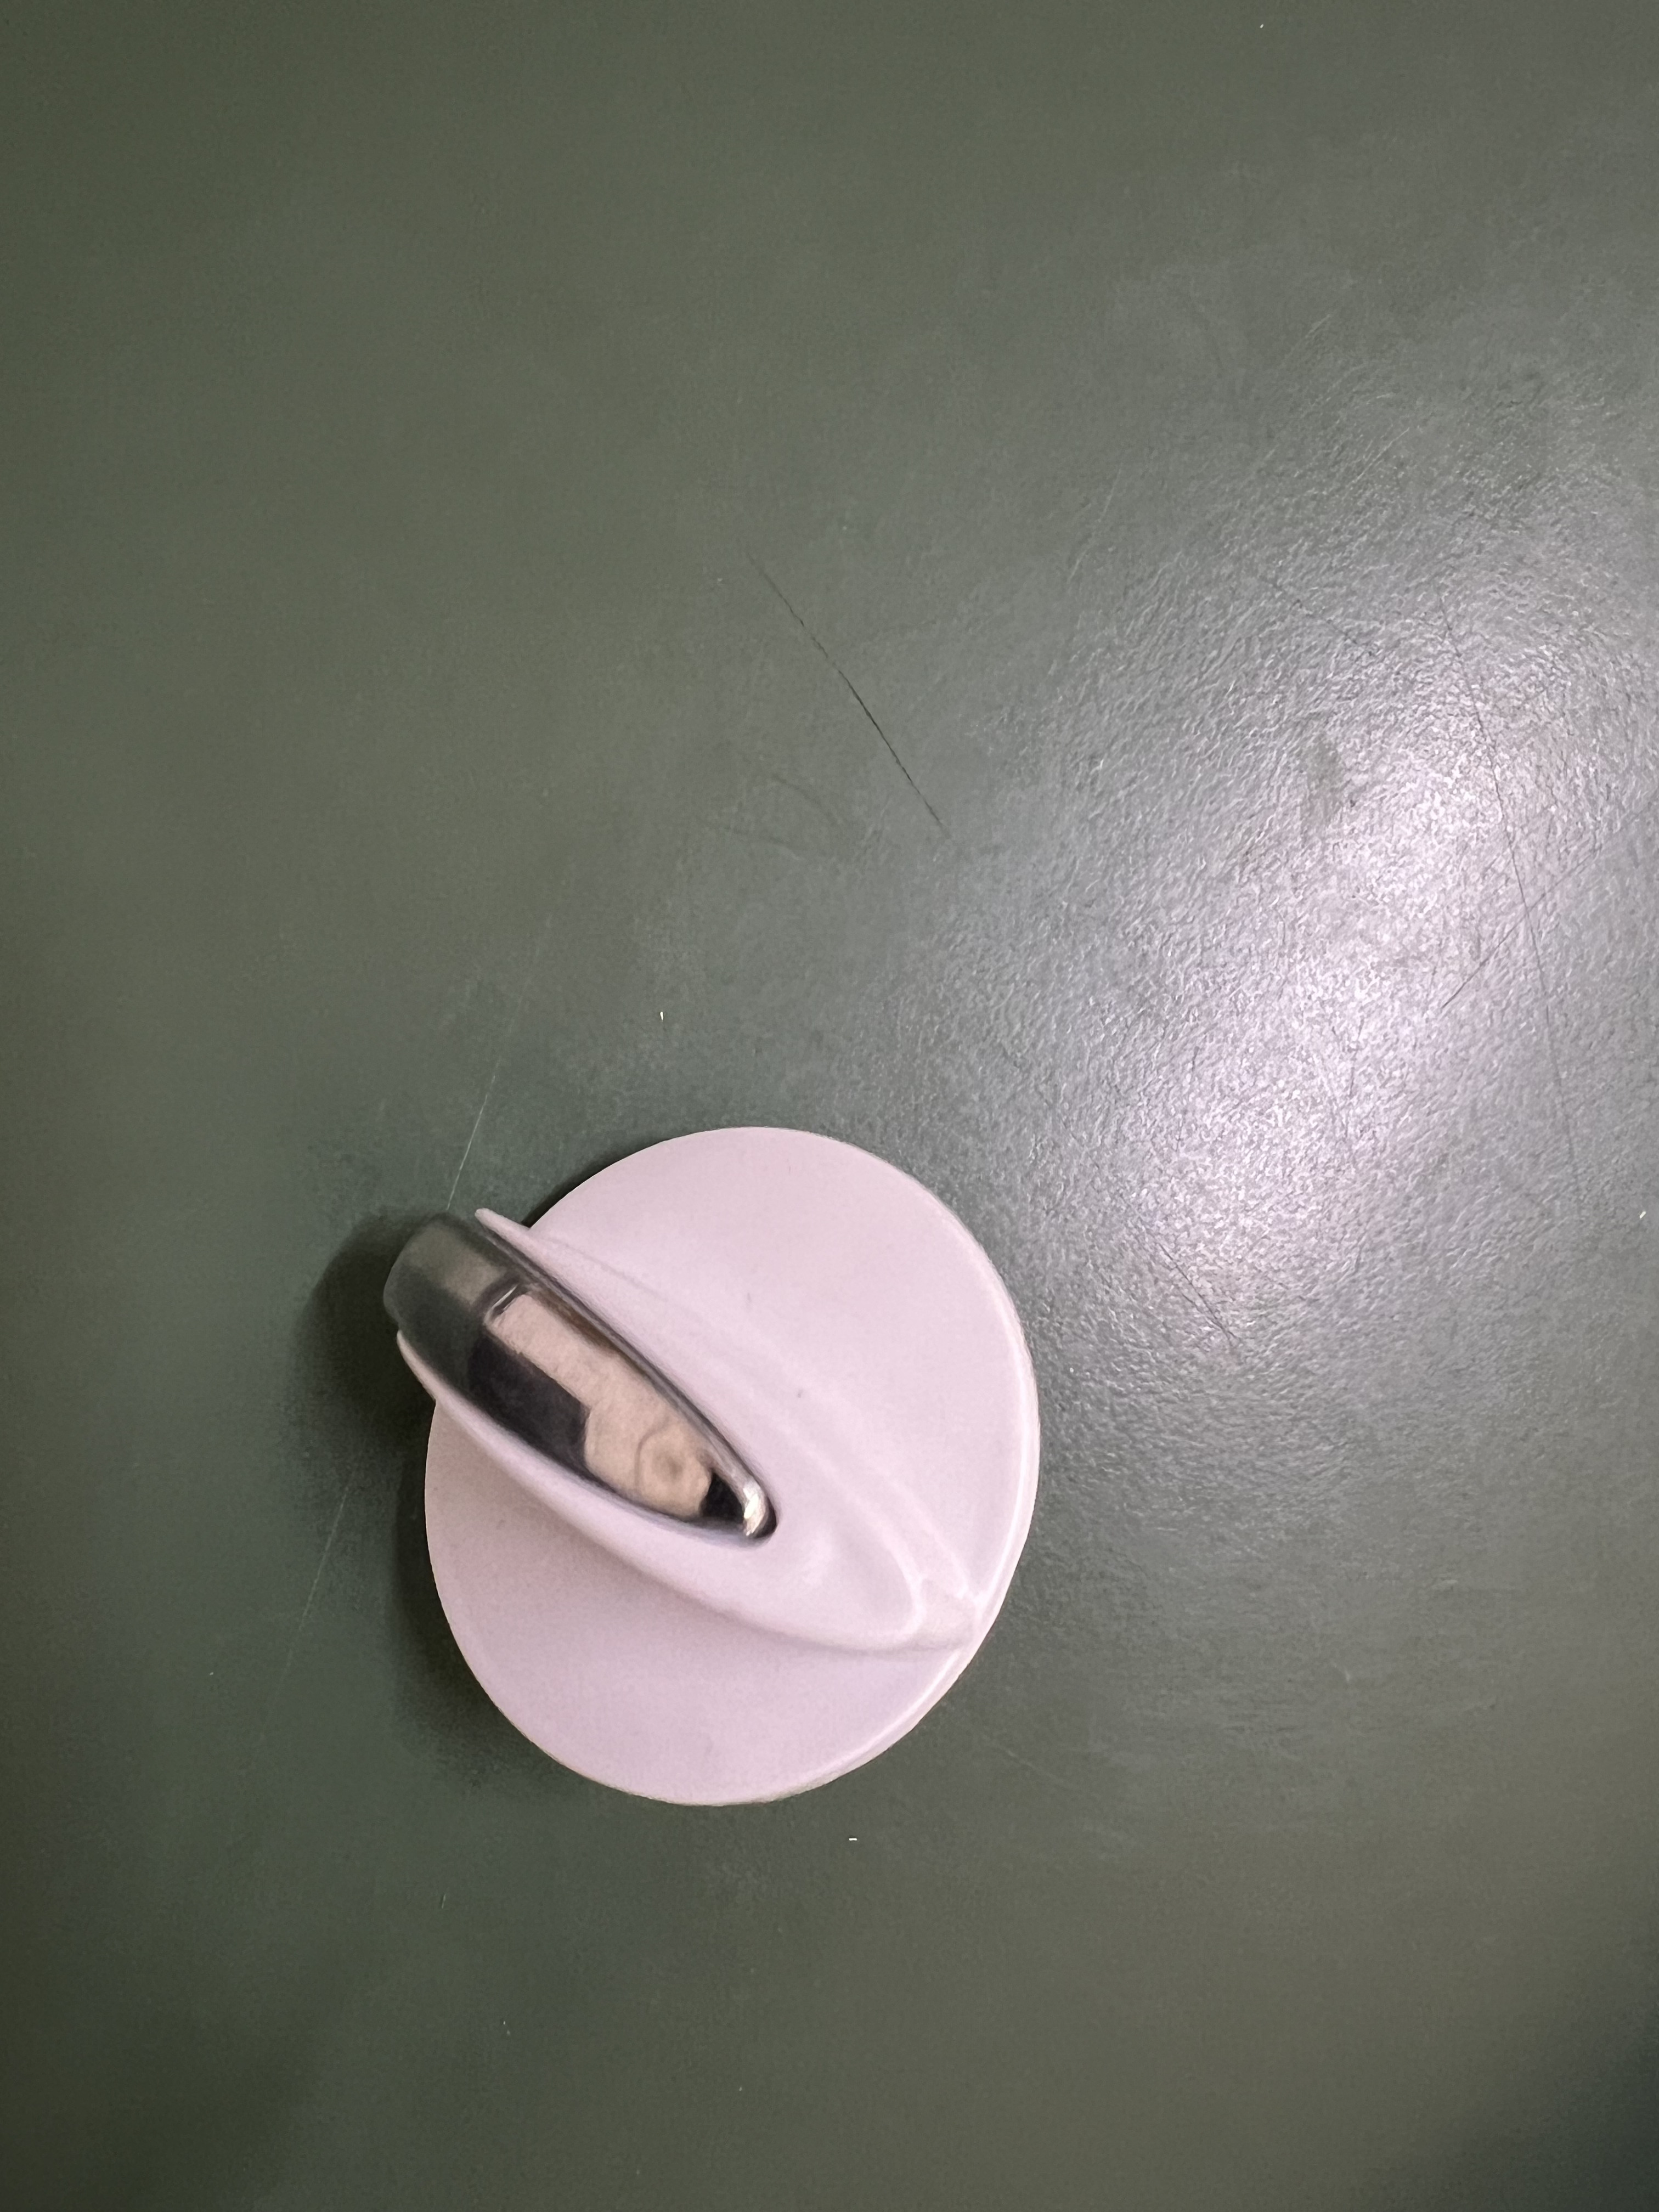regulator: (356, 1092, 1046, 1865)
